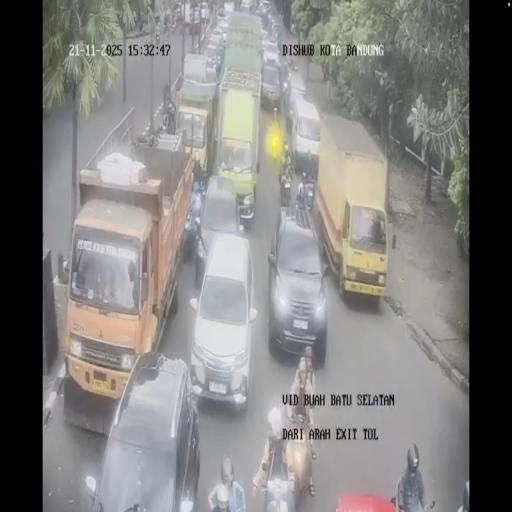car: (88, 352, 200, 508), (267, 200, 327, 358), (195, 174, 246, 284), (261, 41, 282, 105), (284, 66, 306, 122), (203, 39, 225, 80), (253, 2, 268, 24), (259, 27, 269, 58), (271, 20, 283, 43), (171, 3, 182, 28), (180, 2, 192, 24), (190, 6, 200, 31), (199, 1, 209, 21), (239, 0, 253, 14), (216, 4, 227, 19)
motorcycle: (301, 169, 315, 210), (280, 171, 292, 208), (282, 52, 298, 75), (163, 13, 171, 35), (154, 23, 161, 43)
truck: (316, 112, 388, 302), (173, 61, 217, 179), (218, 10, 264, 90)
